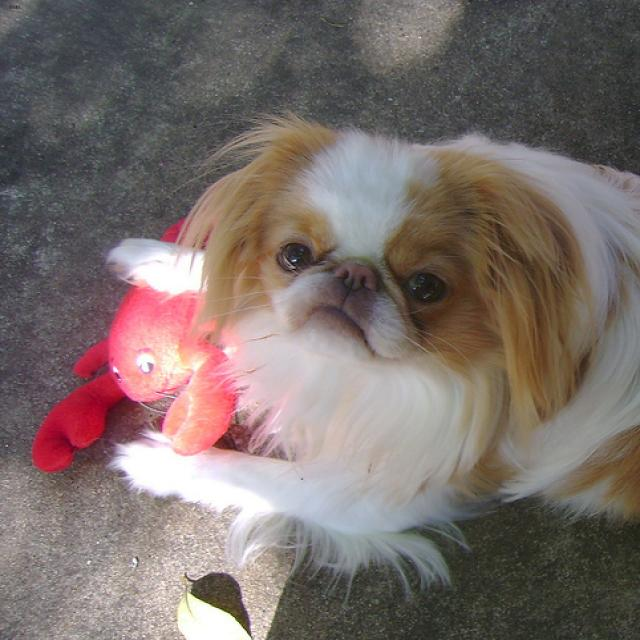dog-japanese_chin: (94, 114, 637, 595)
